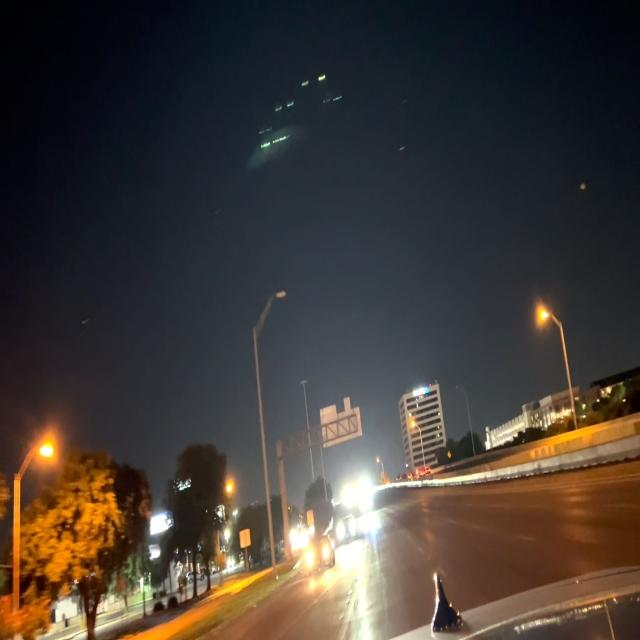back-of-sign: (321, 399, 363, 452)
